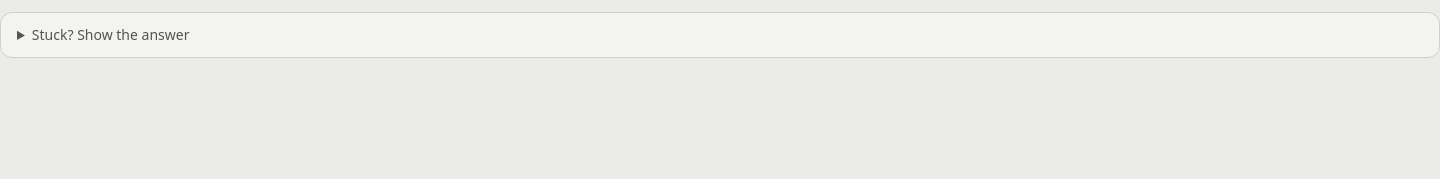
Test case: LessonMarkdown › renders a spoiler collapsed by default and reveals it on click
Step 1. Click the heading "Stuck? Show the answer" → {"x": 111, "y": 34}, box [32,25,189,44]
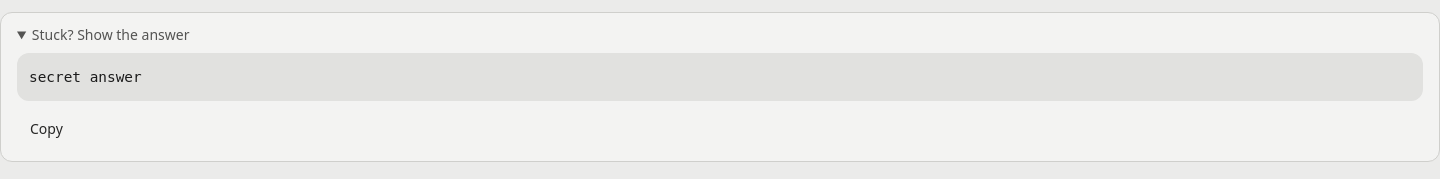
Expected: the text "secret answer" is shown, [29,69,142,85]
